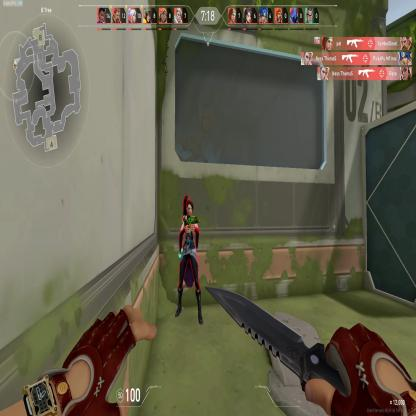enemy: (174, 193, 204, 326)
